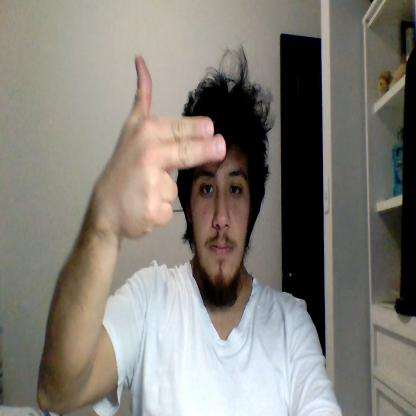H: (113, 54, 226, 238)
